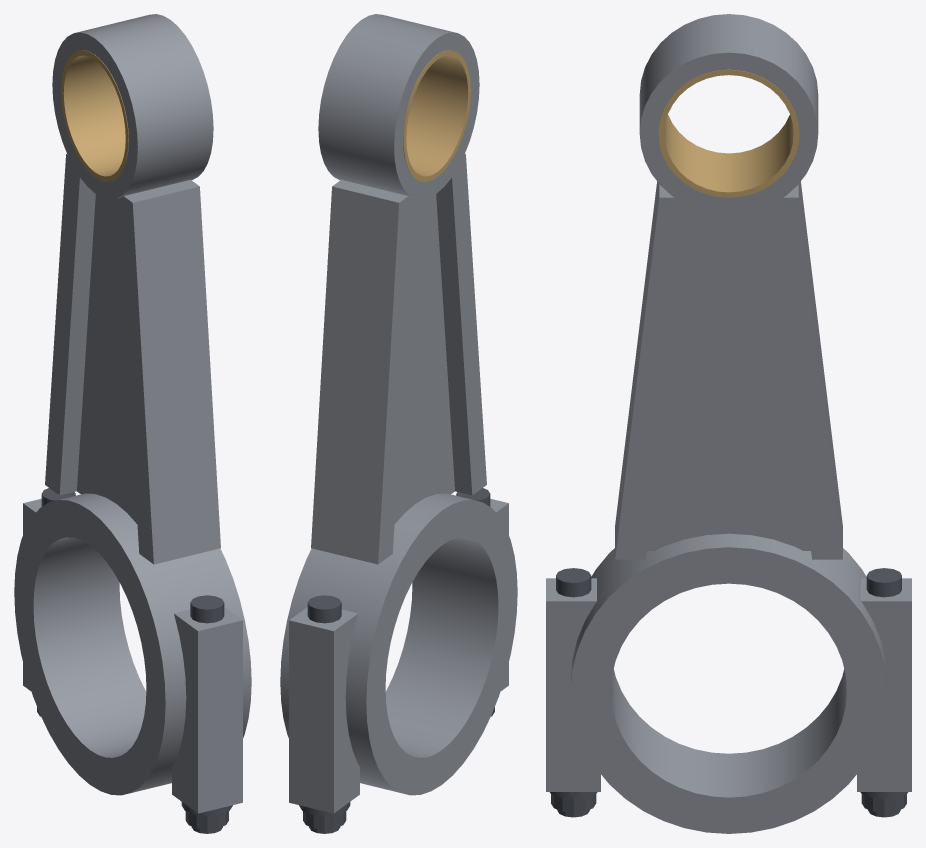
Rendered from rot_conrod_c1_forged.glb.
The picture shows the model from 3 angles, left to right: view 1: azimuth 30°, elevation 25°; view 2: azimuth 150°, elevation 25°; view 3: azimuth 270°, elevation 25°; orthographic projection. The views are drawn at different scales.
Parts seen in each view (by area): view 1: rot_conrod_c1_forged, rot_conrod_smallend_c1_forged; view 2: rot_conrod_c1_forged, rot_conrod_smallend_c1_forged; view 3: rot_conrod_c1_forged, rot_conrod_smallend_c1_forged.
Boxes of the visible parts, x1,y1,x2,y2 form: rot_conrod_c1_forged: [14, 14, 251, 833]; rot_conrod_smallend_c1_forged: [61, 50, 128, 181]; rot_conrod_c1_forged: [280, 14, 517, 833]; rot_conrod_smallend_c1_forged: [403, 50, 470, 181]; rot_conrod_c1_forged: [546, 14, 911, 833]; rot_conrod_smallend_c1_forged: [658, 69, 799, 197].
Bounding box in the file's own units: 0.0277 × 0.2289 × 0.0975.
